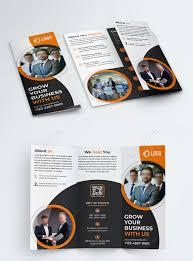paper: (11, 18, 182, 114), (30, 145, 166, 250)
